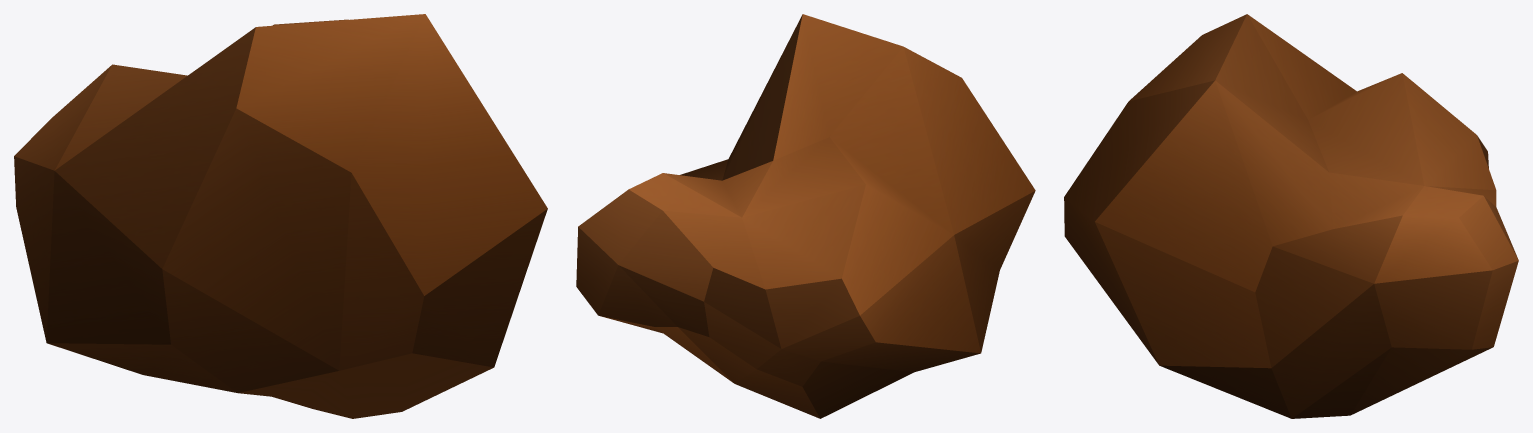
File: bg_rock2.fbx
The picture shows the model from 3 angles, left to right: view 1: azimuth 30°, elevation 25°; view 2: azimuth 150°, elevation 25°; view 3: azimuth 270°, elevation 25°; orthographic projection. The views are drawn at different scales.
Visible parts, largest first — view 1: bg_rock2; view 2: bg_rock2; view 3: bg_rock2.
Boxes of the visible parts, x1=… form: bg_rock2: x1=14, y1=14, x2=547, y2=418; bg_rock2: x1=576, y1=14, x2=1035, y2=418; bg_rock2: x1=1064, y1=14, x2=1518, y2=418.
Size of the model in its own units: 64.26 by 57.76 by 71.5.
